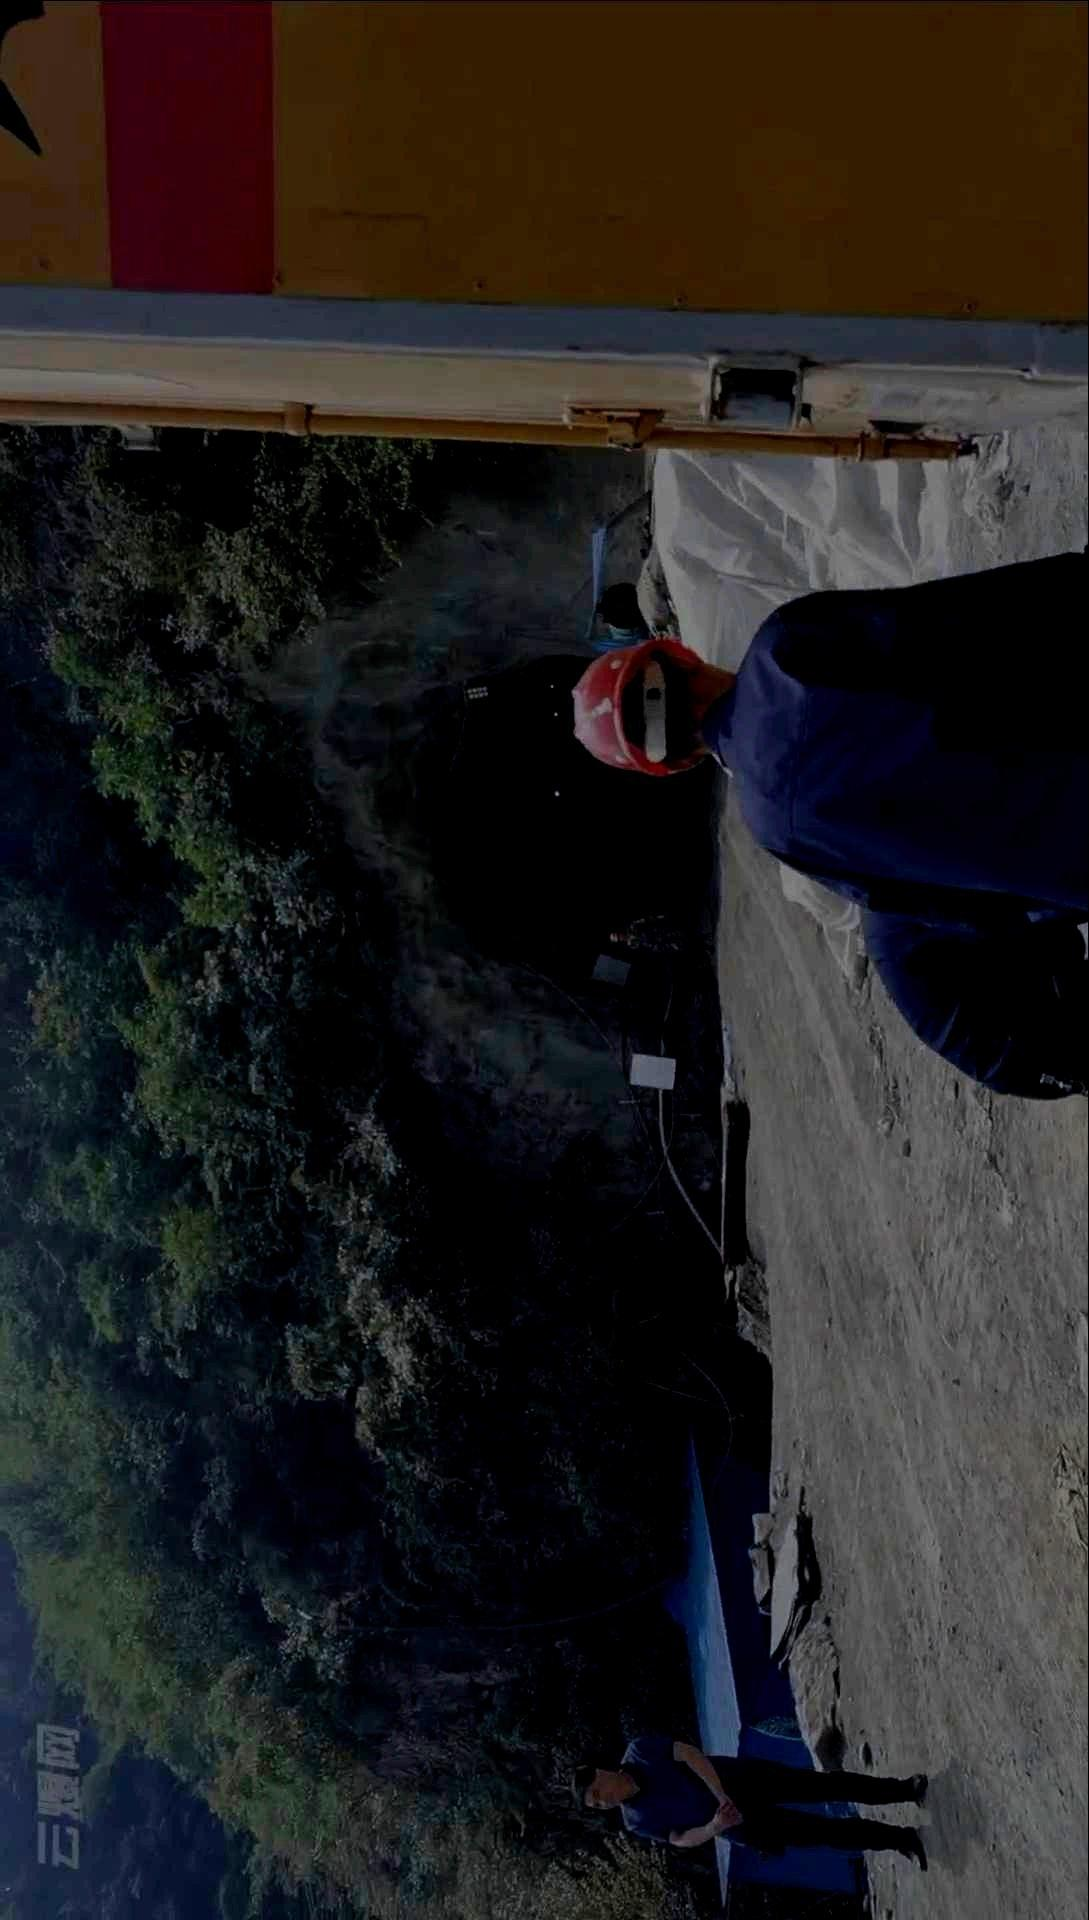helmet: (571, 636, 726, 777)
